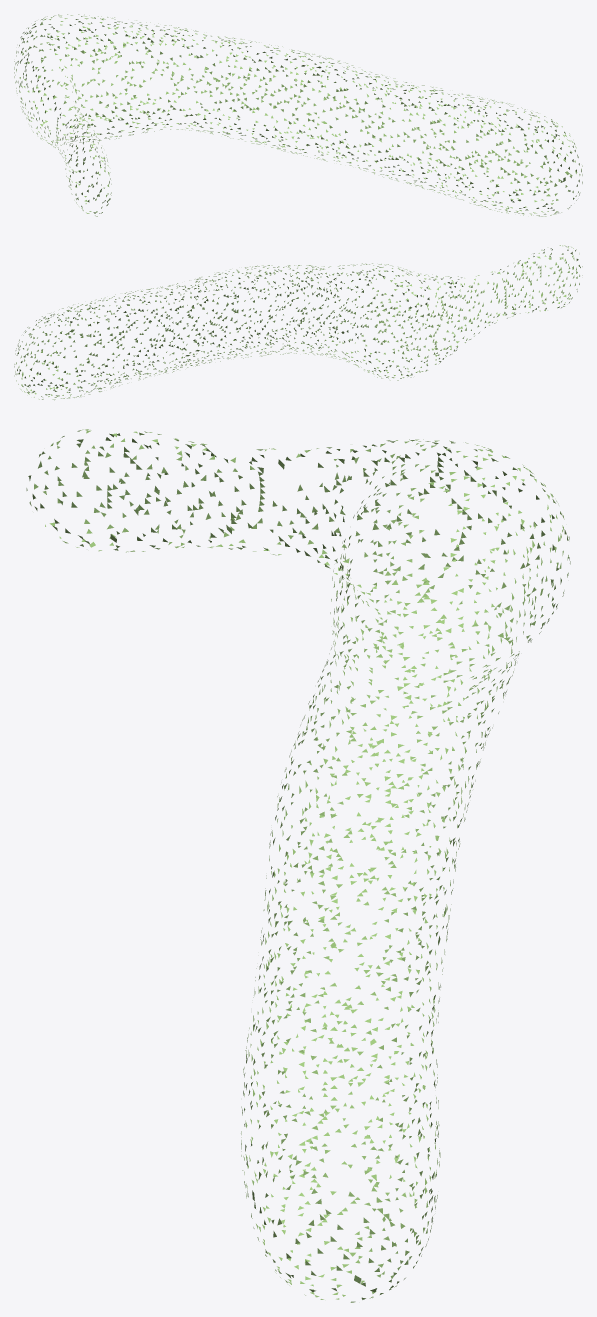
Rendered from morph_013.glb.
The picture shows the model from 3 angles, top to bottom: view 1: azimuth 30°, elevation 25°; view 2: azimuth 150°, elevation 25°; view 3: azimuth 270°, elevation 25°; orthographic projection. The views are drawn at different scales.
Bounding box in the file's own units: 126 × 58.43 × 61.18.
